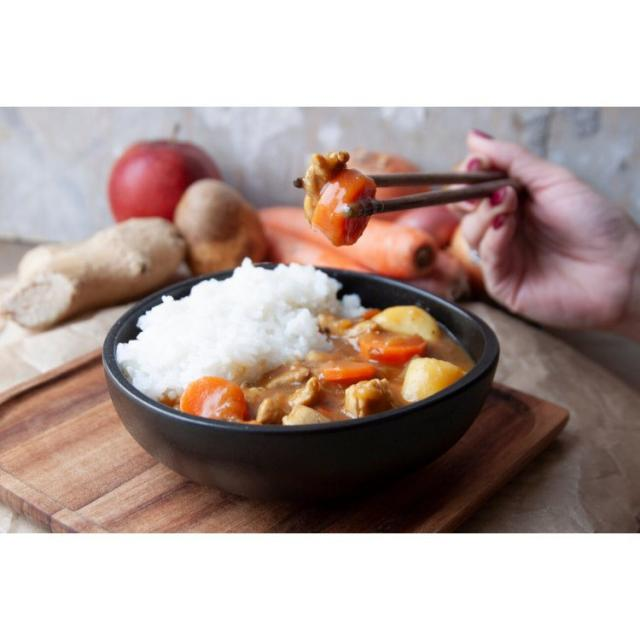Wet: (119, 251, 468, 432)
